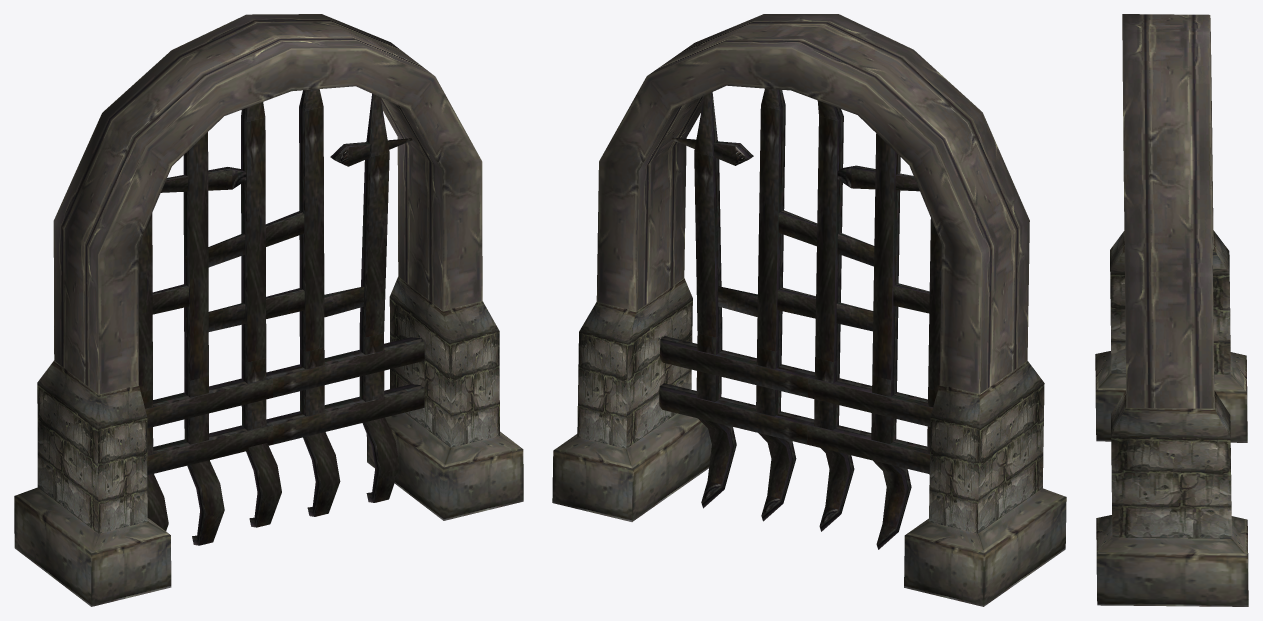
Rendered from S_Build_Muxue015.FBX.
The picture shows the model from 3 angles, left to right: view 1: azimuth 30°, elevation 25°; view 2: azimuth 150°, elevation 25°; view 3: azimuth 270°, elevation 25°; orthographic projection. The views are drawn at different scales.
Parts seen in each view (by area): view 1: S_Build_Muxue015; view 2: S_Build_Muxue015; view 3: S_Build_Muxue015.
Part boxes in pixels (<box>): S_Build_Muxue015: <box>14,14,523,606</box>; S_Build_Muxue015: <box>552,14,1066,606</box>; S_Build_Muxue015: <box>1095,14,1248,606</box>.
Bounding box in the file's own units: 554 × 177 × 609.
